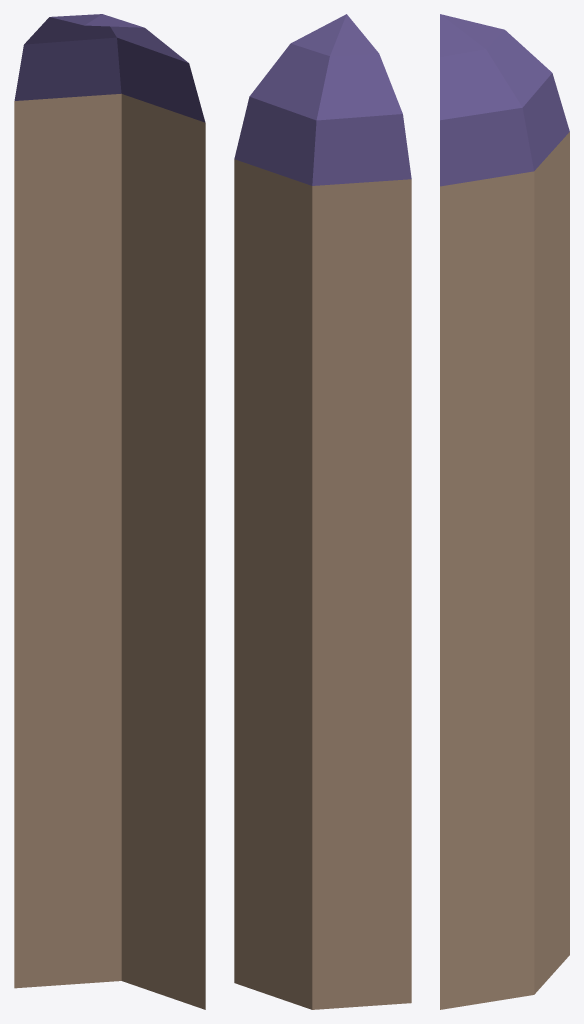
The model's file is env_camino_curva_rio 1.fbx.
3 renders of one model, left to right at view 1: azimuth 30°, elevation 25°; view 2: azimuth 210°, elevation 25°; view 3: azimuth 270°, elevation 25°, orthographic. The views are drawn at different scales.
Parts seen in each view (by area): view 1: env_esquina; view 2: env_esquina; view 3: env_esquina.
Boxes of the visible parts, bbox=[...] form: env_esquina: bbox=[14, 14, 205, 1009]; env_esquina: bbox=[234, 14, 411, 1009]; env_esquina: bbox=[440, 14, 569, 1009].
Size of the model in its own units: 1 by 8 by 1.
